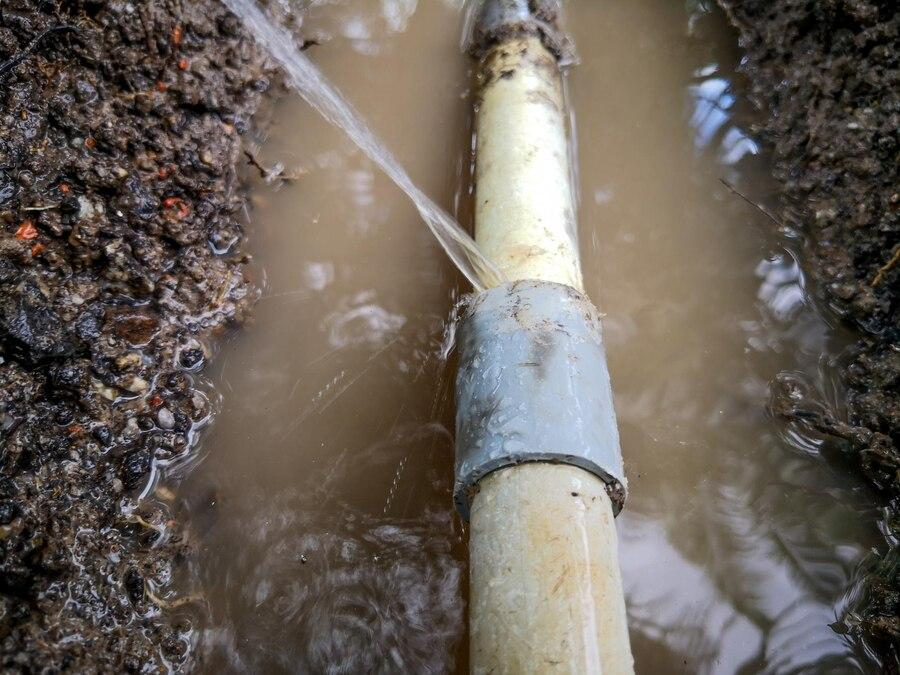pipe burst: (221, 0, 516, 302)
water accumulation: (167, 0, 884, 674)
